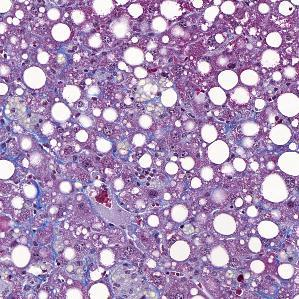fibrosis: (59, 160, 152, 235)
